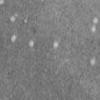white: (88, 54, 95, 65), (91, 16, 99, 24), (28, 39, 35, 48), (11, 33, 17, 43), (52, 42, 61, 48), (90, 25, 97, 32), (23, 15, 28, 24), (10, 16, 15, 21), (0, 0, 4, 6), (15, 12, 18, 16)
